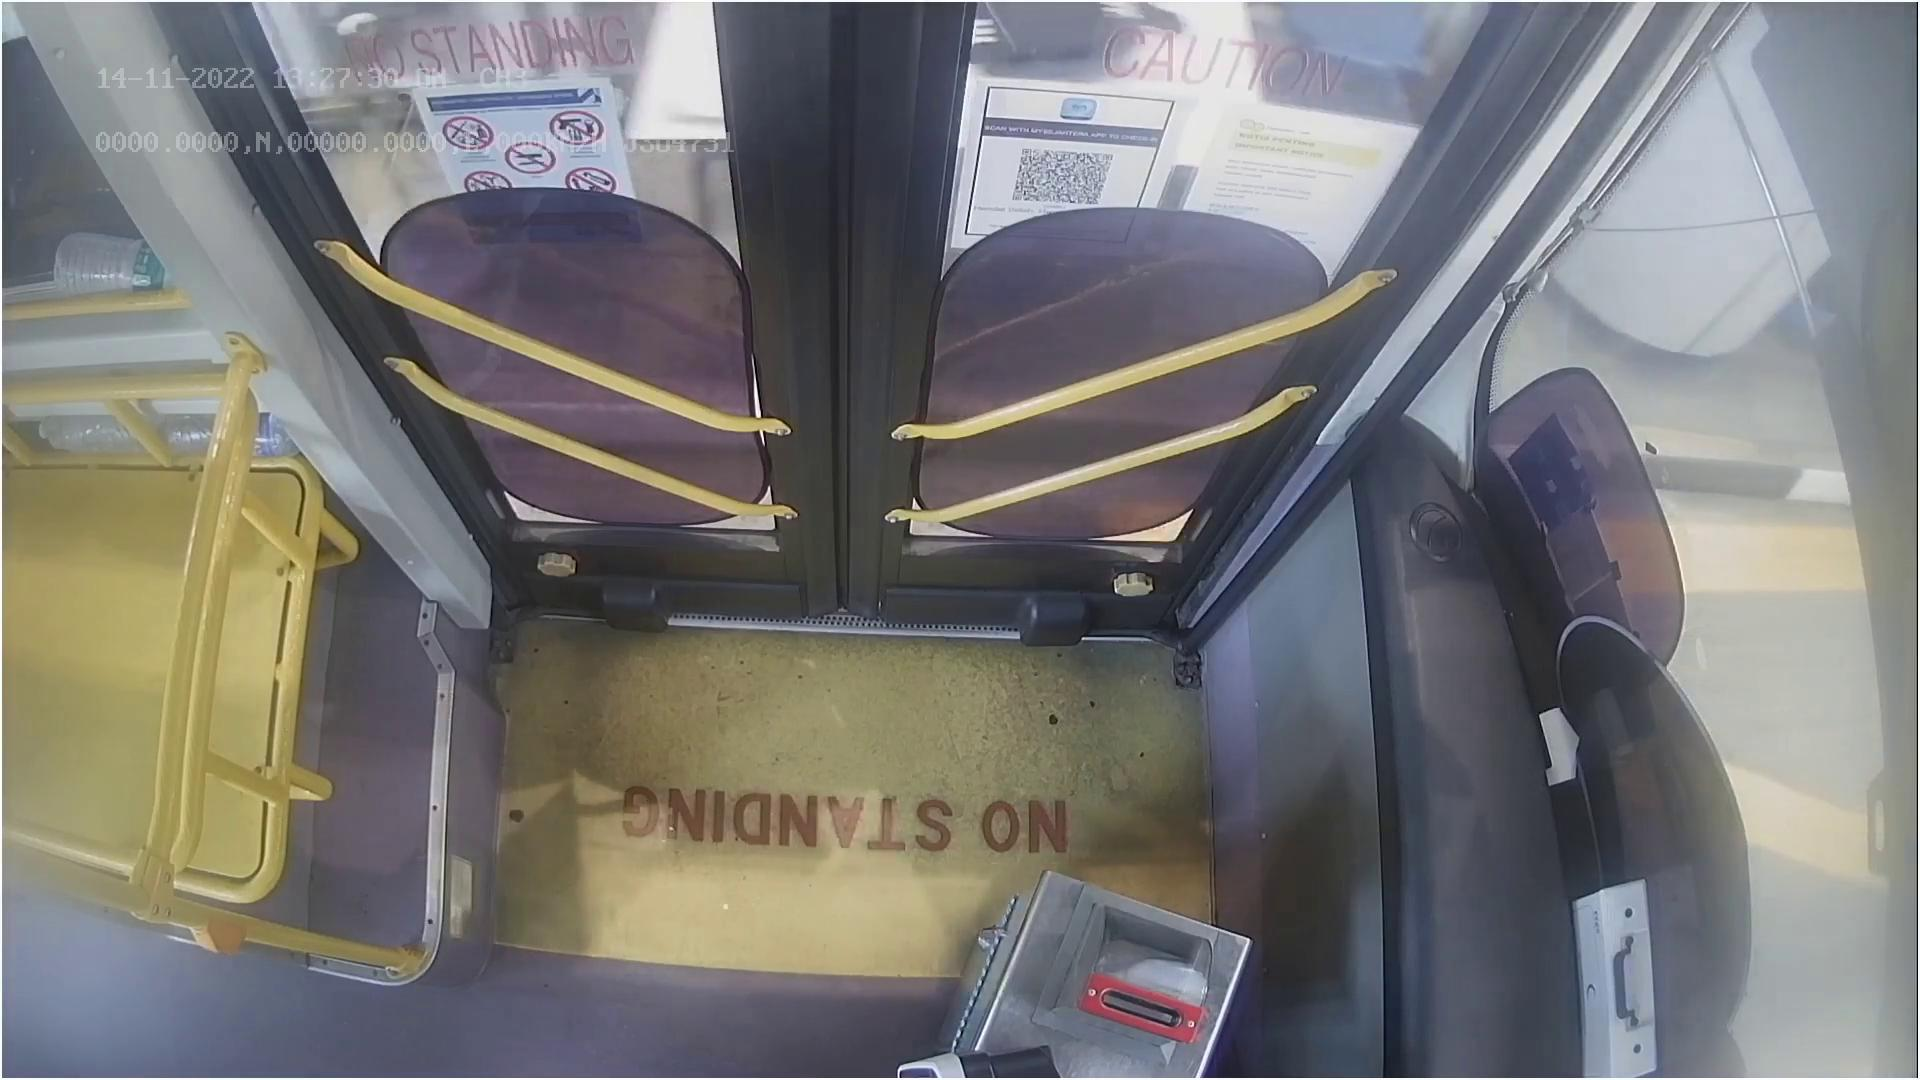close: (290, 0, 1451, 157)
